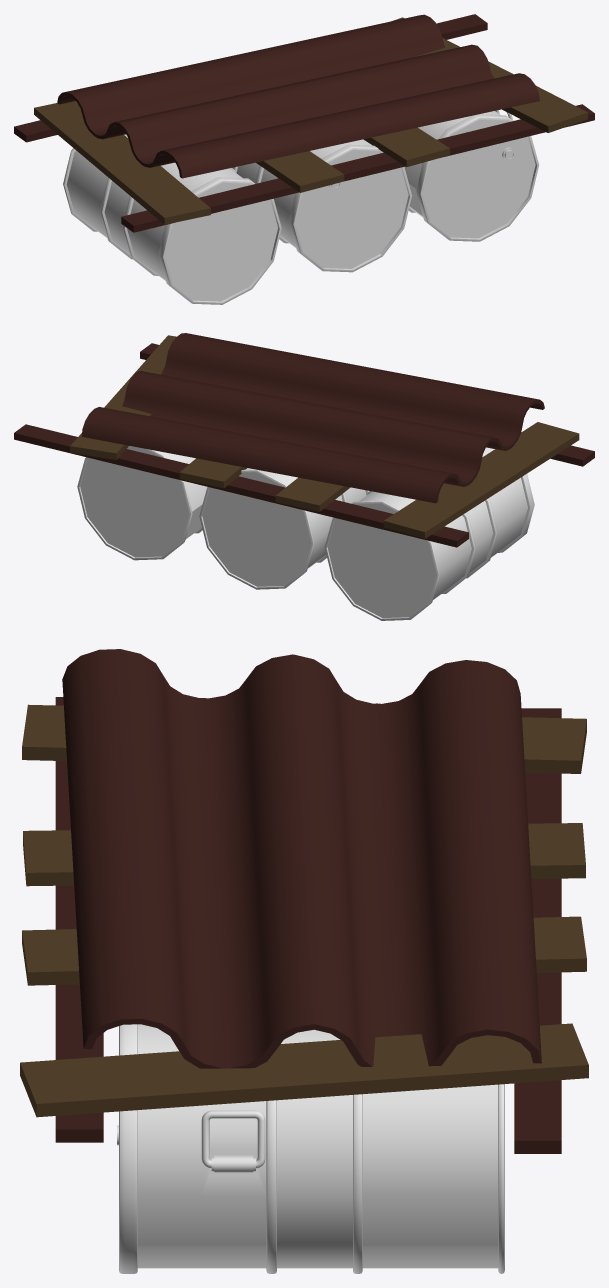
Rendered from Platform2.fbx.
3 renders of one model, top to bottom at view 1: azimuth 30°, elevation 25°; view 2: azimuth 150°, elevation 25°; view 3: azimuth 270°, elevation 25°, orthographic. The views are drawn at different scales.
Visible parts, largest first — view 1: Tube017, Barrel, Barrel001, Barrel002, Box260, Box267, Box266, Box263, Box264, Box268; view 2: Tube017, Barrel, Barrel001, Barrel002, Box260, Box268, Box266, Box263, Box264, Box267; view 3: Tube017, Barrel002, Box266, Box268, Box264, Box263, Box267, Box260.
Part boxes in pixels (left/top/right/bottom): Tube017: left=57, top=14, right=539, bottom=178; Barrel: left=63, top=134, right=281, bottom=304; Barrel001: left=232, top=139, right=412, bottom=272; Barrel002: left=404, top=110, right=539, bottom=241; Box260: left=34, top=101, right=210, bottom=224; Box267: left=121, top=104, right=594, bottom=232; Box266: left=392, top=17, right=587, bottom=132; Box263: left=256, top=151, right=344, bottom=192; Box264: left=363, top=127, right=449, bottom=166; Box268: left=14, top=14, right=487, bottom=142; Tube017: left=82, top=333, right=544, bottom=503; Barrel: left=324, top=447, right=534, bottom=620; Barrel001: left=199, top=468, right=369, bottom=589; Barrel002: left=77, top=446, right=207, bottom=560; Box260: left=383, top=422, right=579, bottom=538; Box268: left=14, top=424, right=468, bottom=547; Box266: left=70, top=335, right=176, bottom=459; Box263: left=275, top=477, right=350, bottom=511; Box264: left=179, top=458, right=246, bottom=488; Box267: left=140, top=343, right=594, bottom=466; Tube017: left=62, top=649, right=541, bottom=1068; Barrel002: left=117, top=1024, right=504, bottom=1273; Box266: left=20, top=1023, right=588, bottom=1117; Box268: left=514, top=708, right=561, bottom=1153; Box264: left=22, top=916, right=586, bottom=985; Box263: left=23, top=823, right=585, bottom=886; Box267: left=55, top=697, right=103, bottom=1142; Box260: left=22, top=704, right=586, bottom=773.
Size of the model in its own units: 83.44 by 29.02 by 45.22.
